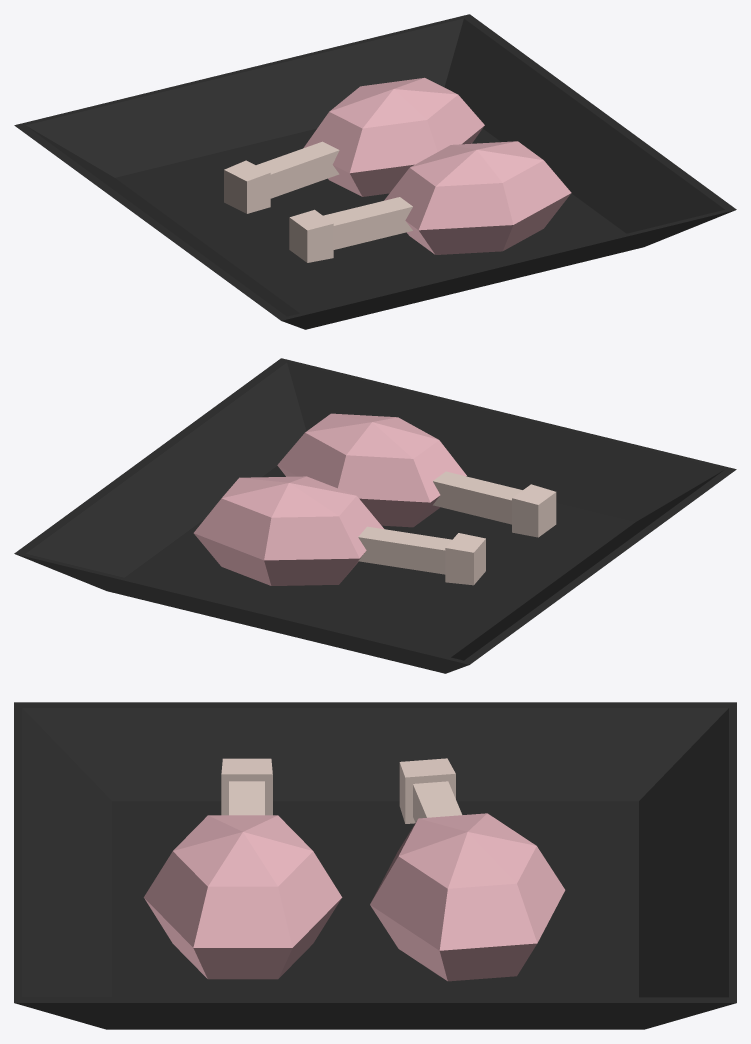
Rendered from pollo.fbx.
3 renders of one model, top to bottom at view 1: azimuth 30°, elevation 25°; view 2: azimuth 150°, elevation 25°; view 3: azimuth 270°, elevation 25°, orthographic. The views are drawn at different scales.
Visible parts, largest first — view 1: Pollo; view 2: Pollo; view 3: Pollo.
Part boxes in pixels (left/top/right/bottom): Pollo: left=14, top=14, right=736, bottom=329; Pollo: left=14, top=358, right=736, bottom=673; Pollo: left=14, top=702, right=736, bottom=1029.
Bounding box in the file's own units: 13.53 × 2.53 × 13.75.
